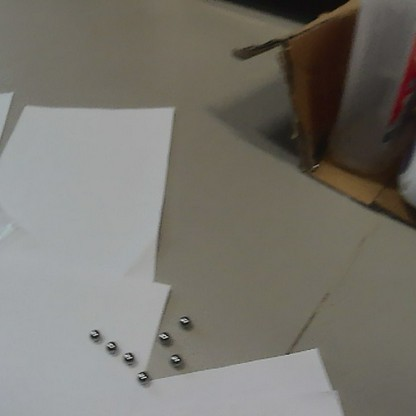ironball: (102, 335, 117, 356), (164, 352, 182, 368), (134, 368, 151, 384), (88, 325, 101, 343), (121, 348, 134, 366), (177, 313, 191, 329), (157, 329, 173, 343)
